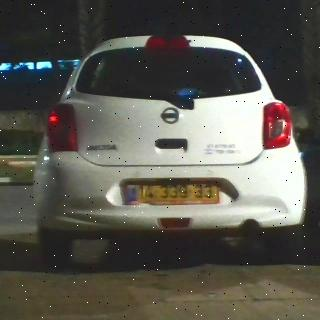LicensePlate: (137, 183, 217, 202)
